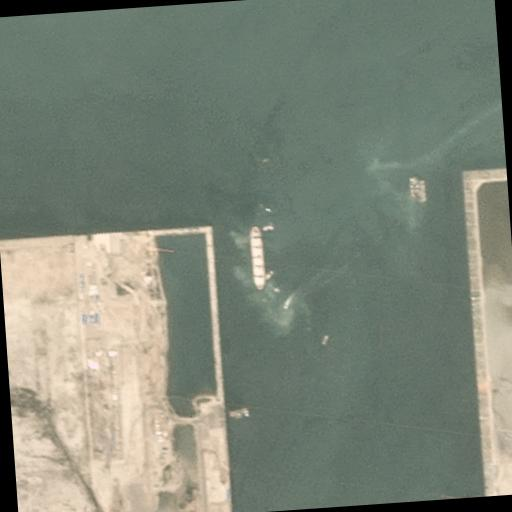ship: (247, 224, 265, 288), (408, 176, 420, 202), (416, 178, 426, 204), (320, 334, 330, 346), (264, 269, 274, 281), (260, 224, 274, 232), (272, 286, 280, 294), (282, 304, 287, 309)
